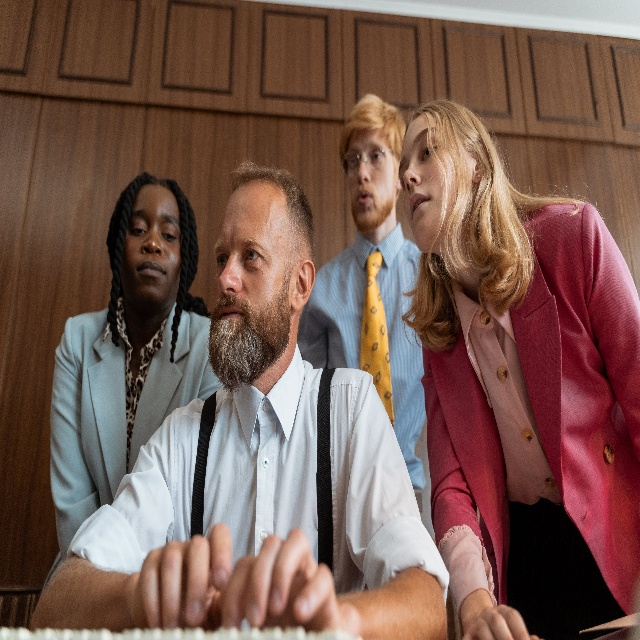Gafas: (341, 147, 382, 175)
Sin_guantes: (206, 526, 340, 621), (139, 524, 226, 623), (462, 603, 532, 638)
